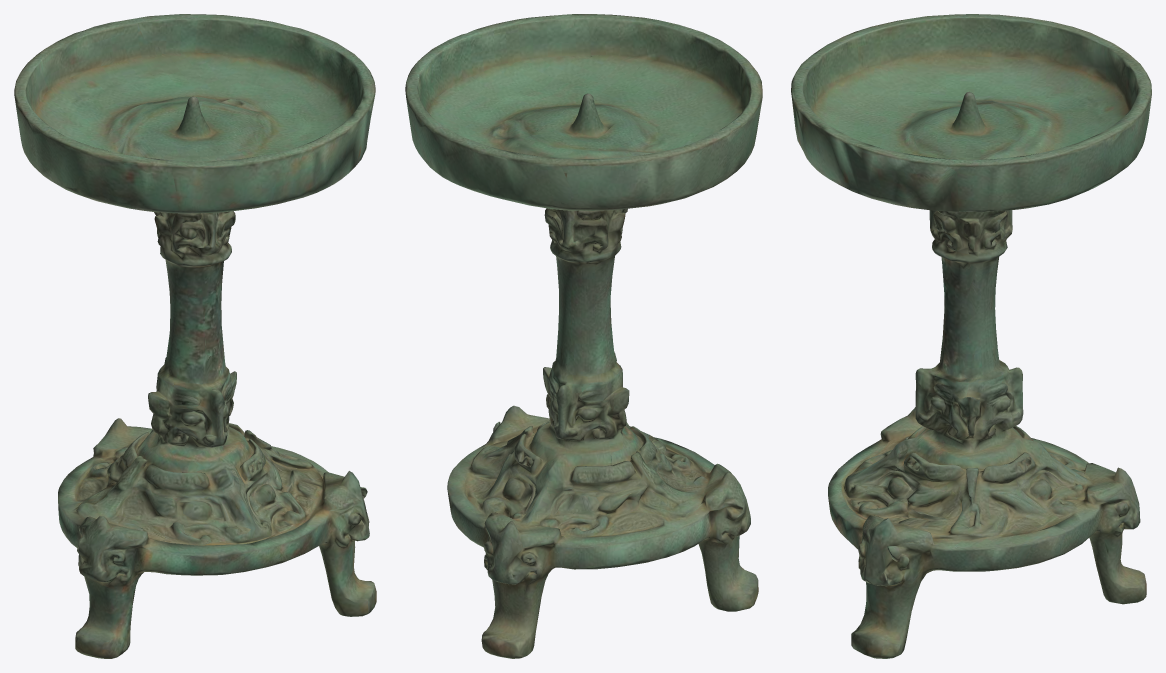
File: prop_lamp.glb
The picture shows the model from 3 angles, left to right: view 1: azimuth 30°, elevation 25°; view 2: azimuth 150°, elevation 25°; view 3: azimuth 270°, elevation 25°; orthographic projection.
Visible parts, largest first — view 1: Mesh; view 2: Mesh; view 3: Mesh.
Boxes of the visible parts, x1,y1,x2,y2 form: Mesh: (14,14,376,658); Mesh: (405,14,762,658); Mesh: (791,14,1151,658).
Size of the model in its own units: 0.6375 by 1 by 0.6397.
1 material, 1 textured.
